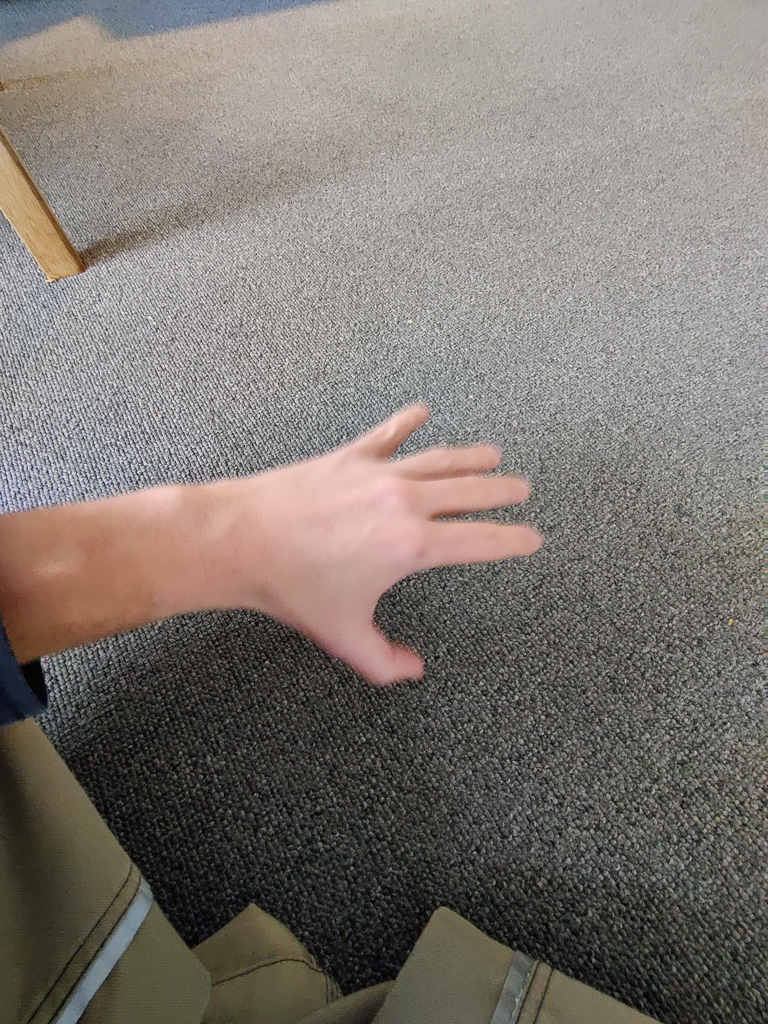Humanoid: (0, 393, 680, 1024)
